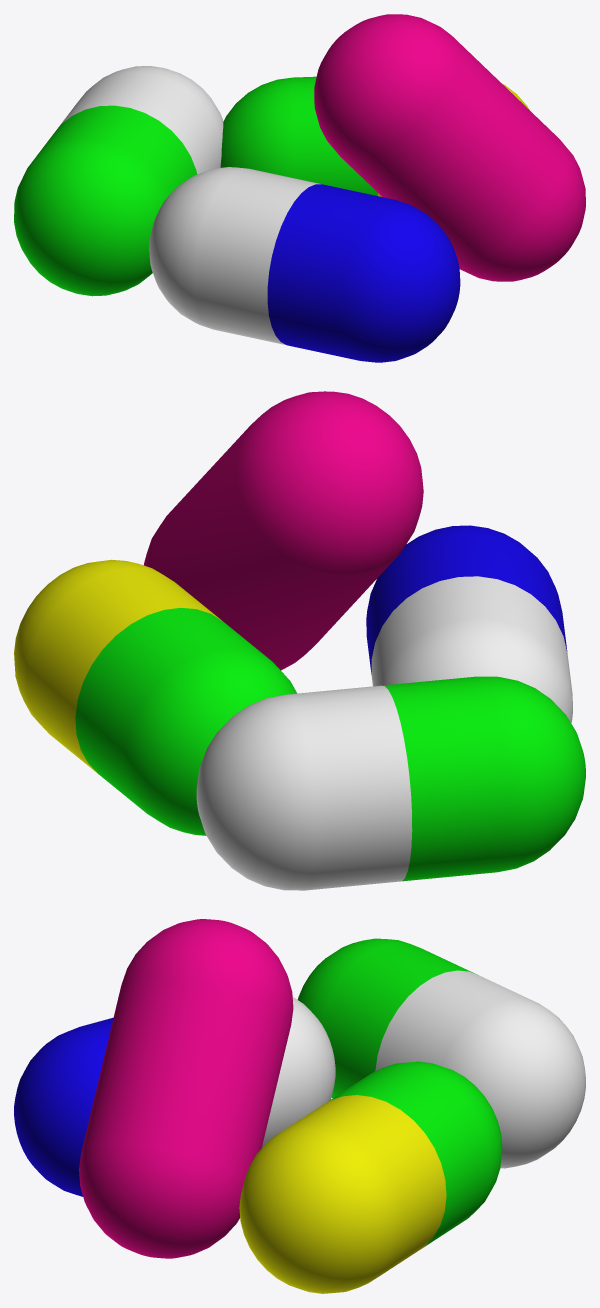
Rendered from Pills.fbx.
The picture shows the model from 3 angles, top to bottom: view 1: azimuth 30°, elevation 25°; view 2: azimuth 150°, elevation 25°; view 3: azimuth 270°, elevation 25°; orthographic projection. The views are drawn at different scales.
Visible parts, largest first — view 1: Sphere.002, Sphere.001, Sphere.003, Sphere; view 2: Sphere.003, Sphere.001, Sphere, Sphere.002; view 3: Sphere.001, Sphere, Sphere.003, Sphere.002.
Part boxes in pixels (box(x1,y1,x2,y2)): Sphere.002: box(149, 167, 460, 362); Sphere.001: box(314, 14, 585, 281); Sphere.003: box(14, 66, 223, 296); Sphere: box(220, 76, 529, 196); Sphere.003: box(196, 676, 585, 890); Sphere.001: box(144, 391, 423, 670); Sphere: box(14, 559, 297, 835); Sphere.002: box(366, 525, 572, 723); Sphere.001: box(79, 919, 293, 1258); Sphere: box(239, 1061, 502, 1293); Sphere.003: box(297, 938, 585, 1168); Sphere.002: box(14, 997, 335, 1196).
Bounding box in the file's own units: 33.78 × 19.05 × 32.69.
